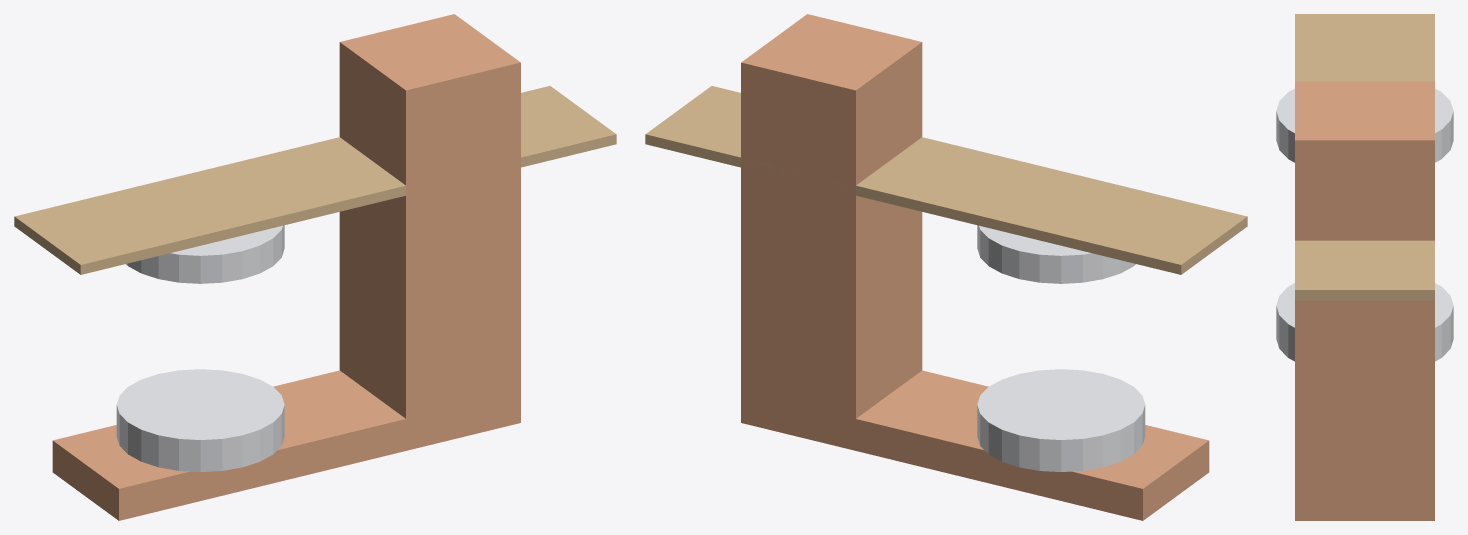
File: AP_CONTACTO_RELE.glb
3 renders of one model, left to right at view 1: azimuth 30°, elevation 25°; view 2: azimuth 150°, elevation 25°; view 3: azimuth 270°, elevation 25°, orthographic. The views are drawn at different scales.
Parts seen in each view (by area): view 1: terminal_fijo_cobre, lamina_movil_bronce, contactos_AgSnO2; view 2: terminal_fijo_cobre, lamina_movil_bronce, contactos_AgSnO2; view 3: terminal_fijo_cobre, lamina_movil_bronce, contactos_AgSnO2.
Boxes of the visible parts, box(x1,y1,x2,y2) form: terminal_fijo_cobre: box(52, 14, 520, 520); lamina_movil_bronce: box(14, 86, 616, 274); contactos_AgSnO2: box(116, 225, 284, 471); terminal_fijo_cobre: box(741, 14, 1209, 520); lamina_movil_bronce: box(645, 86, 1247, 274); contactos_AgSnO2: box(977, 225, 1145, 471); terminal_fijo_cobre: box(1295, 81, 1434, 520); lamina_movil_bronce: box(1295, 14, 1434, 300); contactos_AgSnO2: box(1276, 88, 1453, 361).
Size of the model in its own units: 0.014 by 0.009 by 0.0038.
